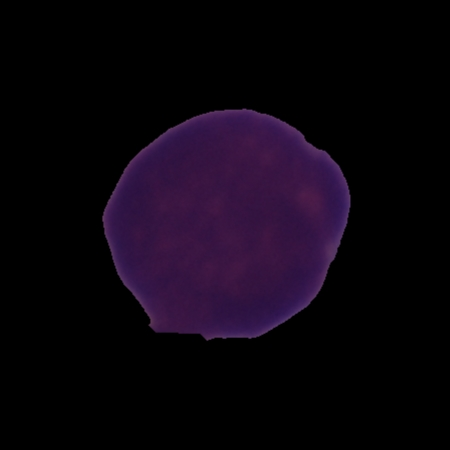ALL: (99, 104, 355, 343)
